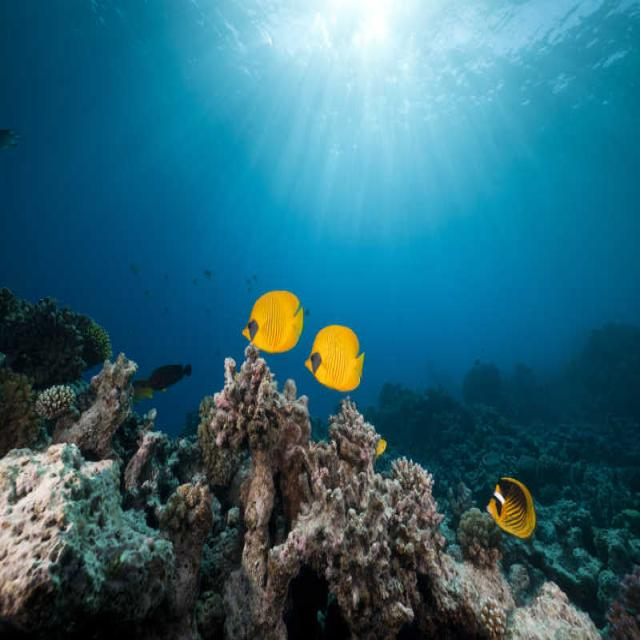ButterflyFish: (242, 290, 303, 355), (305, 323, 361, 393), (488, 473, 537, 539)
